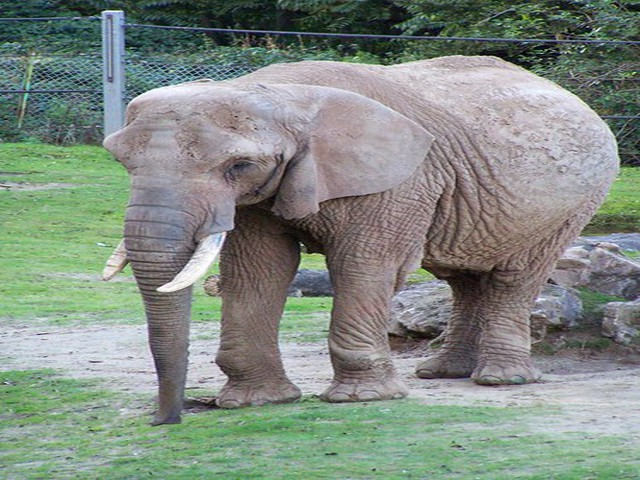Elephant: (97, 44, 622, 421)
